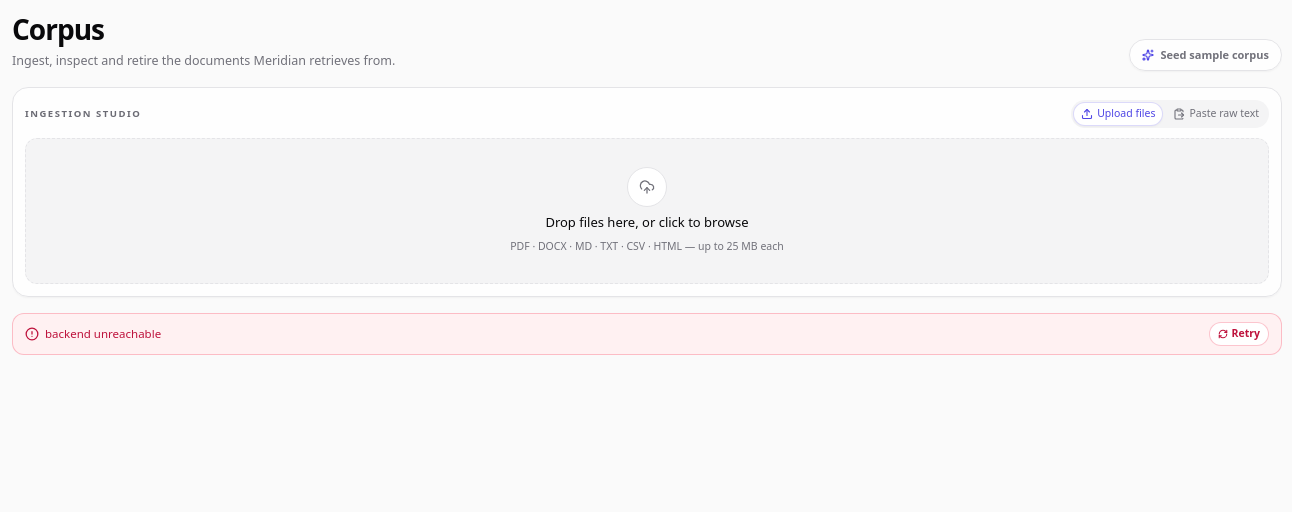
Test: VaultView catalog › shows a retryable banner when the catalog cannot load
Click the button "Retry" at (1239, 334), box [1209,322,1269,346]
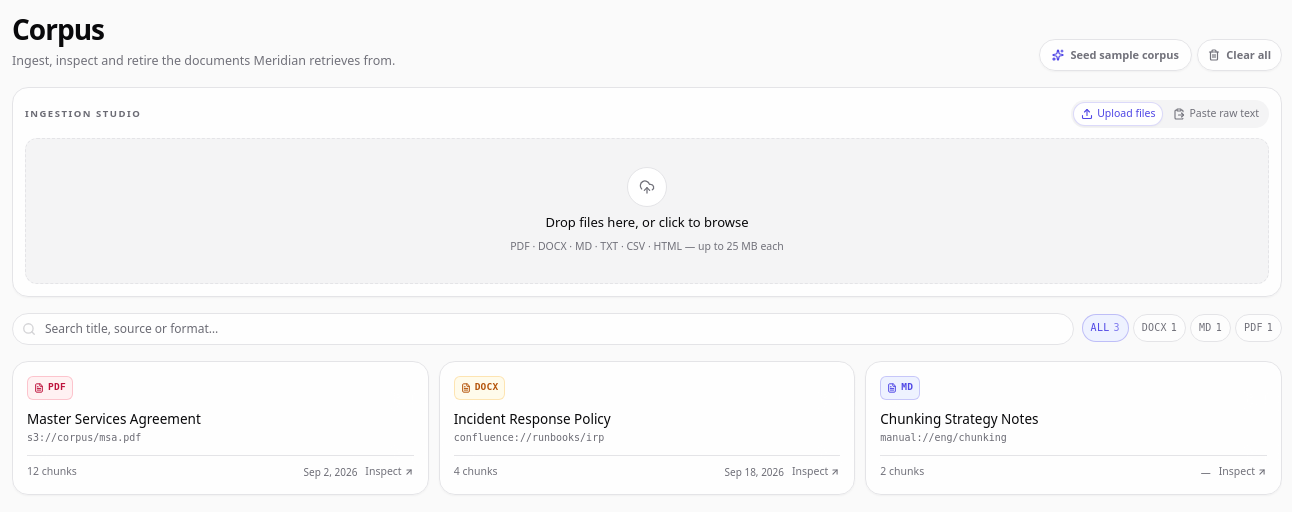
Expected: the text "Master Services Agreement" is shown, [27,410,201,428]
